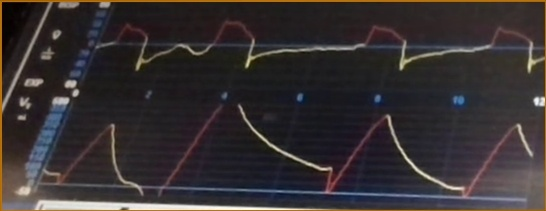Ineffective_effort Flow: (100, 15, 546, 80)
Ineffective_effort Volume: (44, 104, 534, 197)
